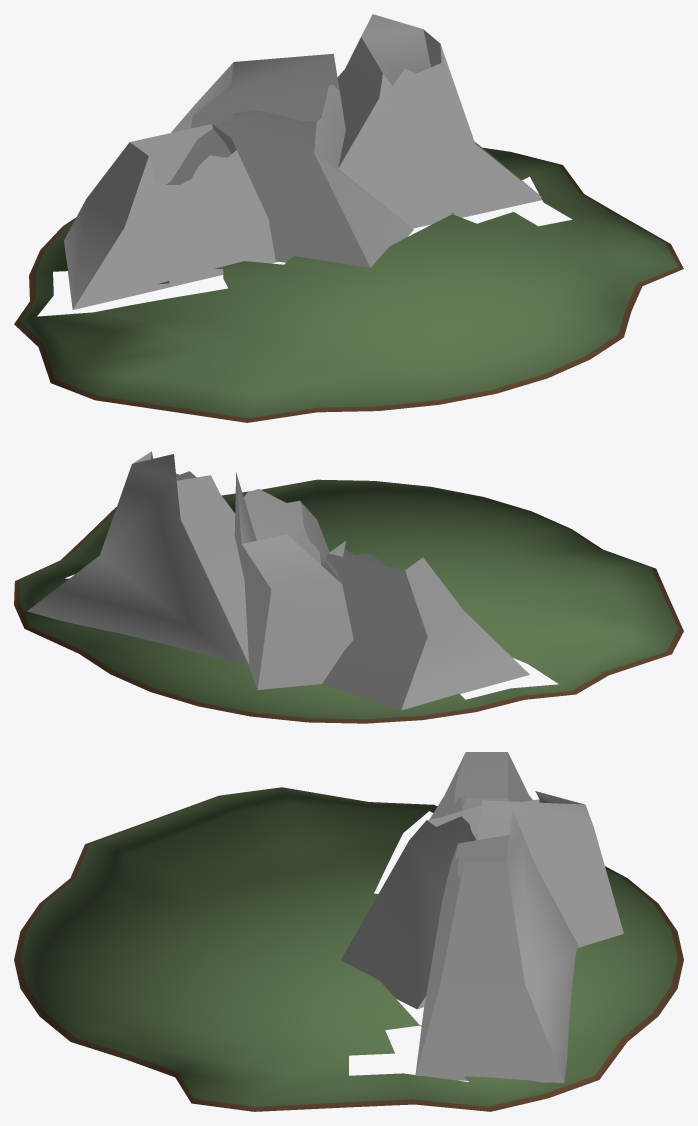
Rendered from nature-alps.glb.
The picture shows the model from 3 angles, top to bottom: view 1: azimuth 30°, elevation 25°; view 2: azimuth 150°, elevation 25°; view 3: azimuth 270°, elevation 25°; orthographic projection. The views are drawn at different scales.
Bounding box in the file's own units: 206 × 60.69 × 179.
